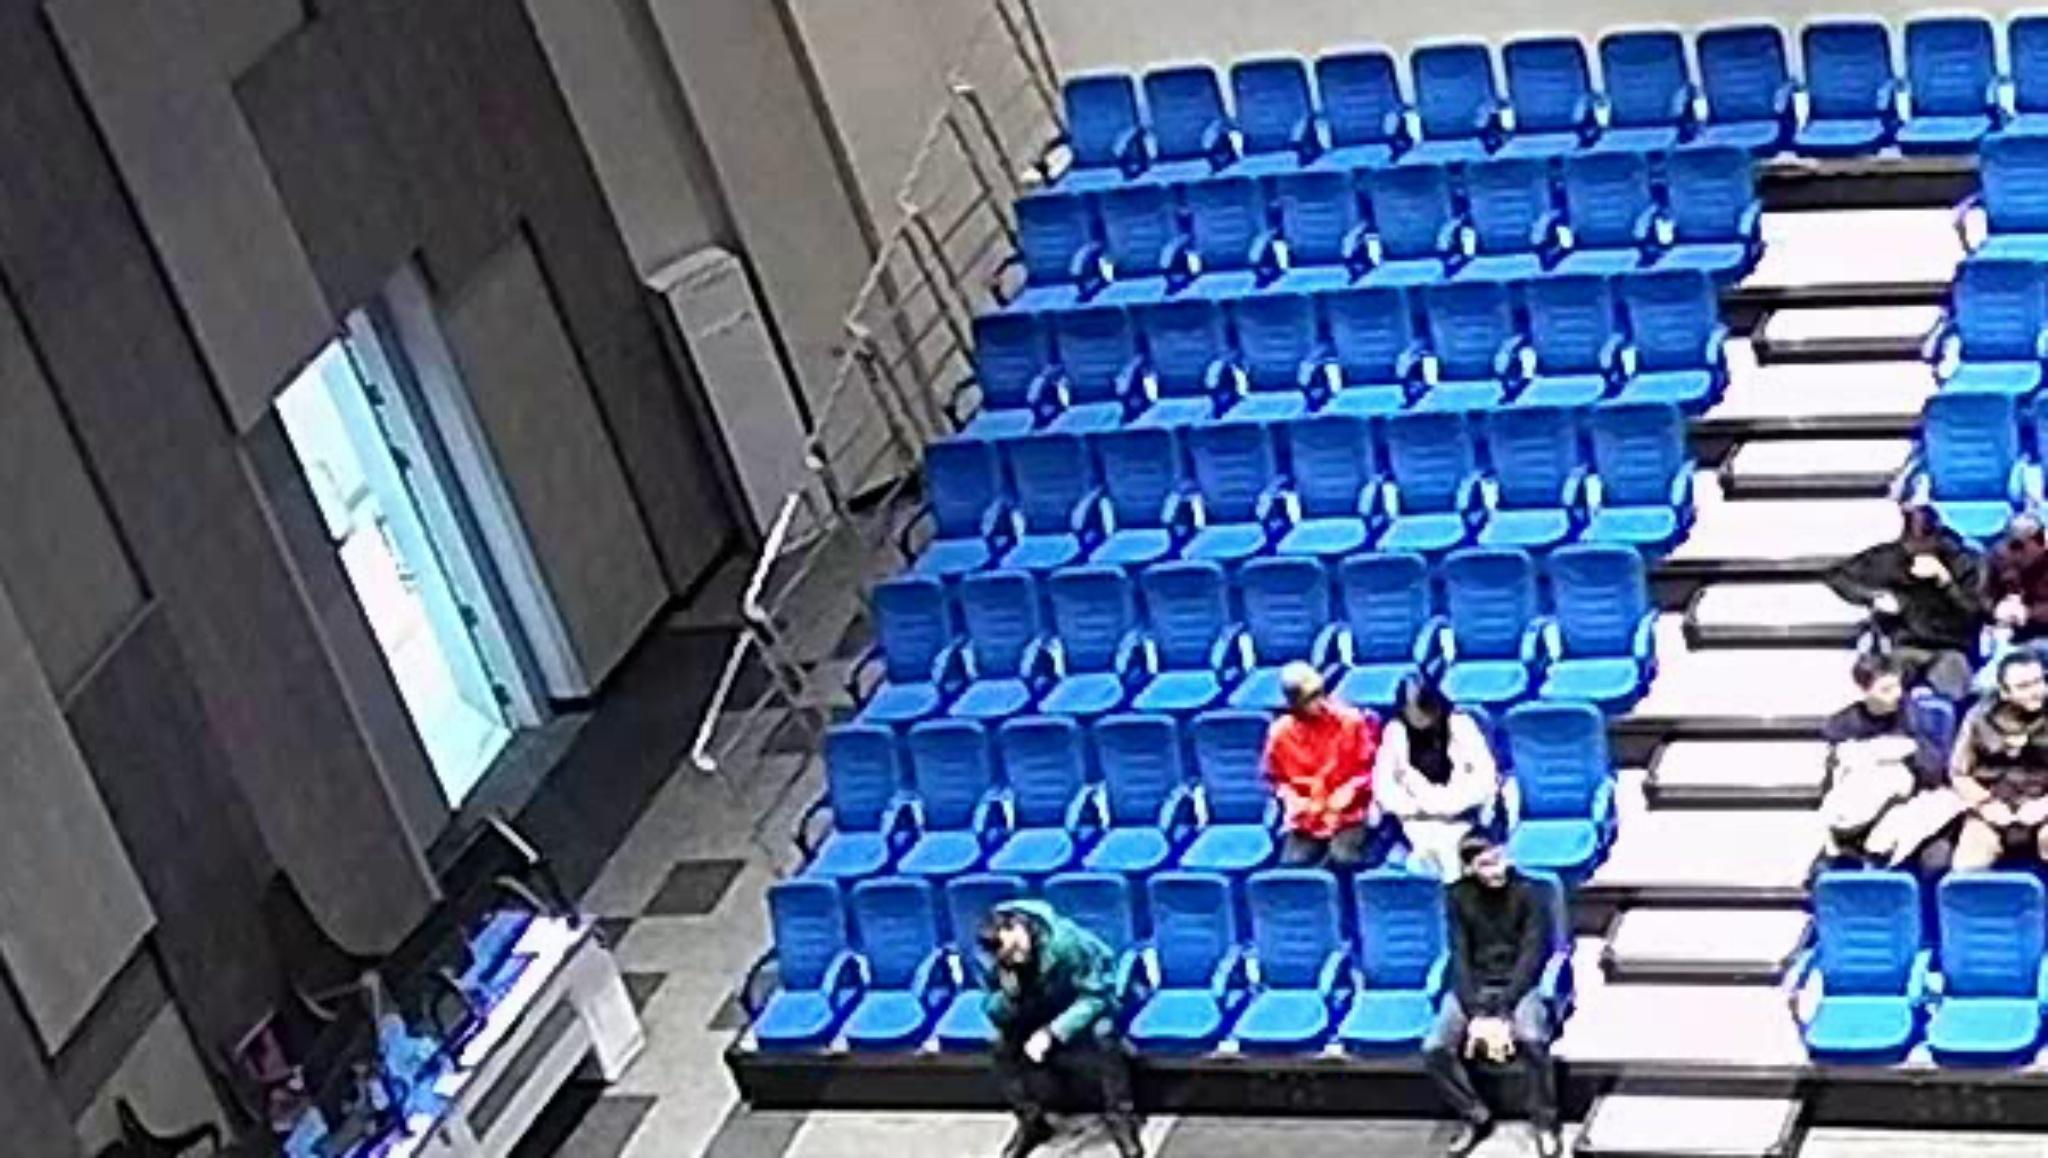empty: (1919, 871, 2045, 1071), (1336, 864, 1457, 1061), (1806, 870, 1919, 1062), (1499, 695, 1619, 875), (1242, 865, 1345, 1057), (1125, 871, 1235, 1048), (926, 877, 1028, 1051), (1186, 709, 1295, 871), (1536, 543, 1649, 699), (837, 878, 930, 1052), (1084, 715, 1189, 868), (1333, 554, 1436, 706), (1474, 404, 1589, 537), (1435, 546, 1536, 698), (1229, 559, 1332, 708), (987, 715, 1086, 870), (1795, 14, 1903, 155), (1616, 260, 1732, 391), (750, 882, 838, 1052), (802, 725, 902, 875), (1914, 393, 2017, 539), (1585, 400, 1698, 532), (1896, 11, 2000, 152), (1694, 18, 1800, 155), (848, 578, 947, 725), (904, 716, 997, 870), (947, 573, 1044, 719), (1183, 418, 1283, 560), (1657, 136, 1765, 267), (1378, 408, 1487, 539), (1518, 262, 1629, 388), (1284, 411, 1393, 540), (1135, 560, 1227, 712), (1039, 567, 1129, 715), (996, 433, 1093, 570), (1948, 259, 2047, 393), (900, 438, 994, 577), (1456, 151, 1563, 273), (1595, 25, 1695, 153), (1557, 142, 1663, 263), (1499, 31, 1602, 155), (1094, 425, 1187, 561), (1179, 169, 1279, 294), (1418, 269, 1521, 390), (948, 308, 1041, 439), (1321, 277, 1423, 395), (1408, 38, 1508, 159), (1134, 298, 1231, 422), (1312, 45, 1412, 163), (1360, 158, 1461, 273), (1042, 304, 1132, 432), (1227, 286, 1326, 401), (1266, 162, 1366, 277), (1142, 61, 1238, 177), (1228, 52, 1322, 169), (1059, 69, 1153, 183), (999, 193, 1096, 303), (1093, 183, 1180, 300), (1969, 131, 2048, 259)
